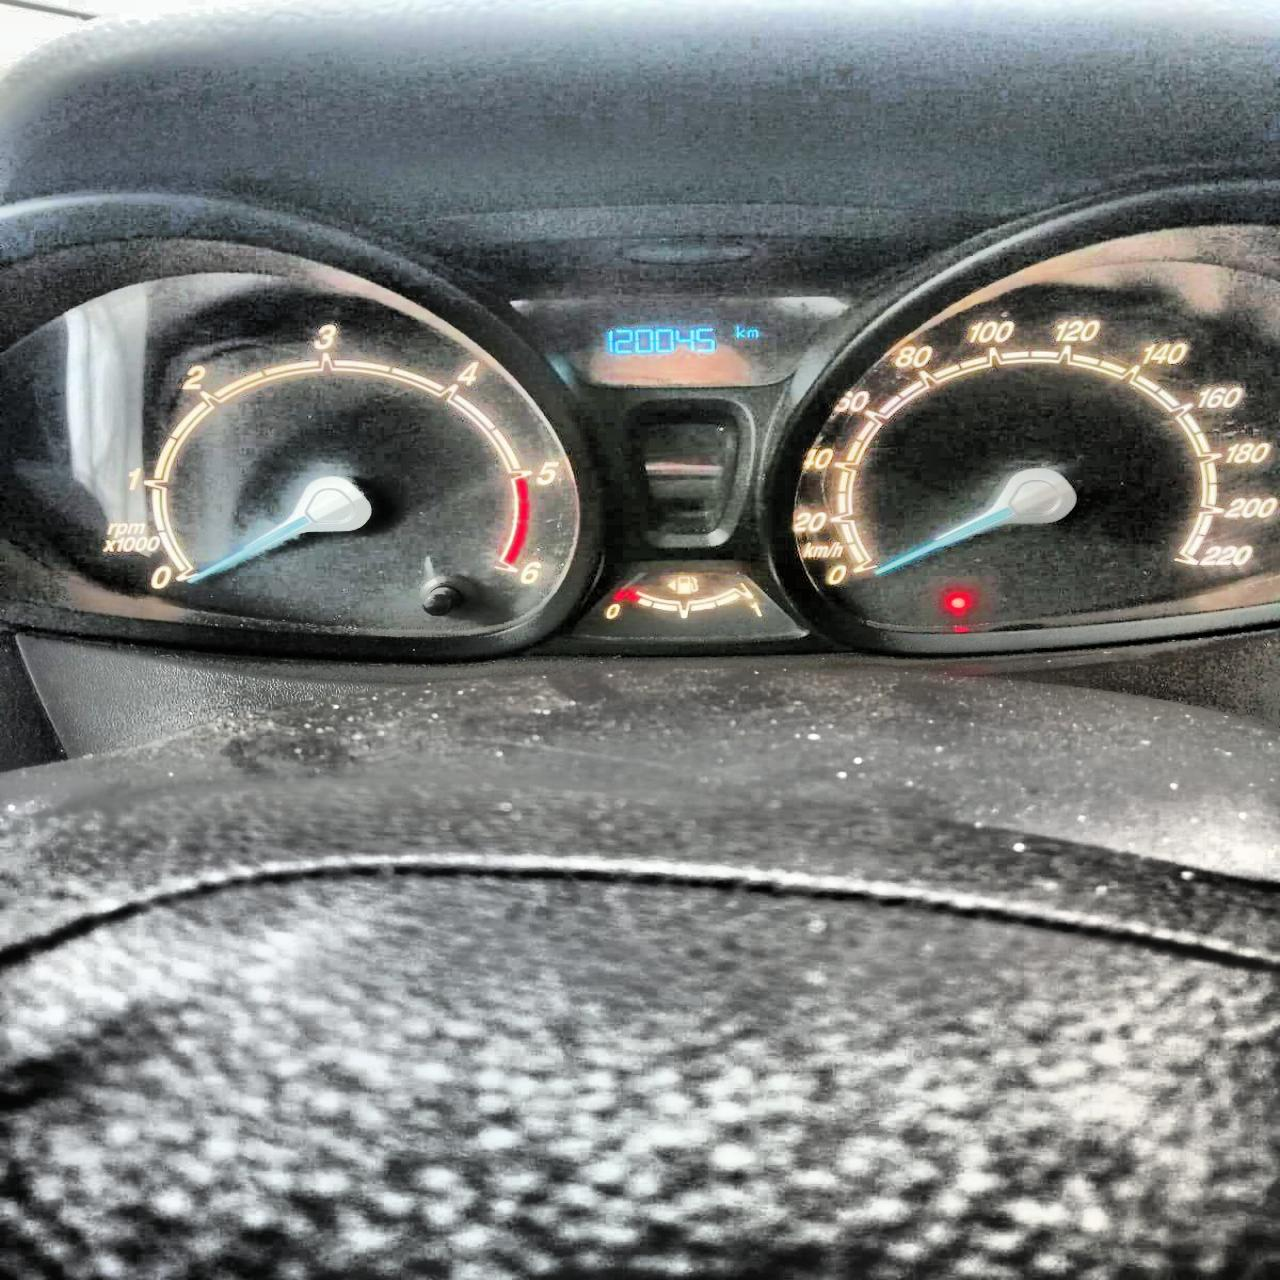0: (633, 328, 654, 353), (654, 328, 674, 352)
1: (607, 329, 612, 352)
2: (612, 328, 633, 354)
4: (673, 328, 694, 350)
5: (694, 327, 715, 350)
X: (735, 325, 744, 338), (747, 328, 758, 338)
odometer: (578, 306, 781, 380)
